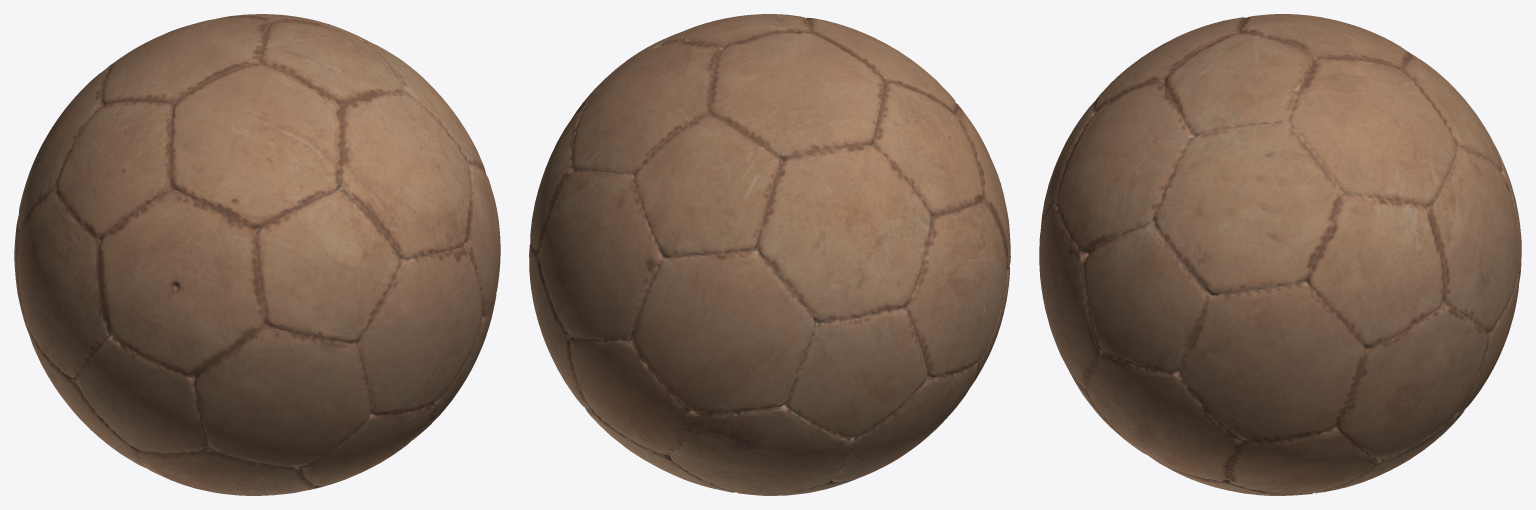
The model's file is dirty_football_1k.gltf.
3 renders of one model, left to right at view 1: azimuth 30°, elevation 25°; view 2: azimuth 150°, elevation 25°; view 3: azimuth 270°, elevation 25°, orthographic.
Visible parts, largest first — view 1: dirty_football; view 2: dirty_football; view 3: dirty_football.
Part boxes in pixels (x1,y1,x2,y2): dirty_football: (14,14,500,495); dirty_football: (529,14,1010,495); dirty_football: (1039,14,1521,495).
Size of the model in its own units: 0.2214 by 0.22 by 0.22.
Materials: 1 (1 with a texture image).
